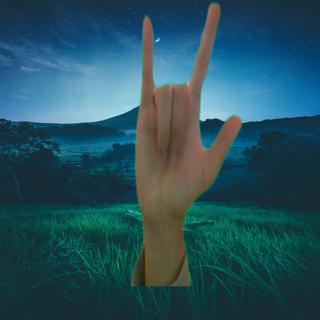ILY: (132, 1, 247, 226)
